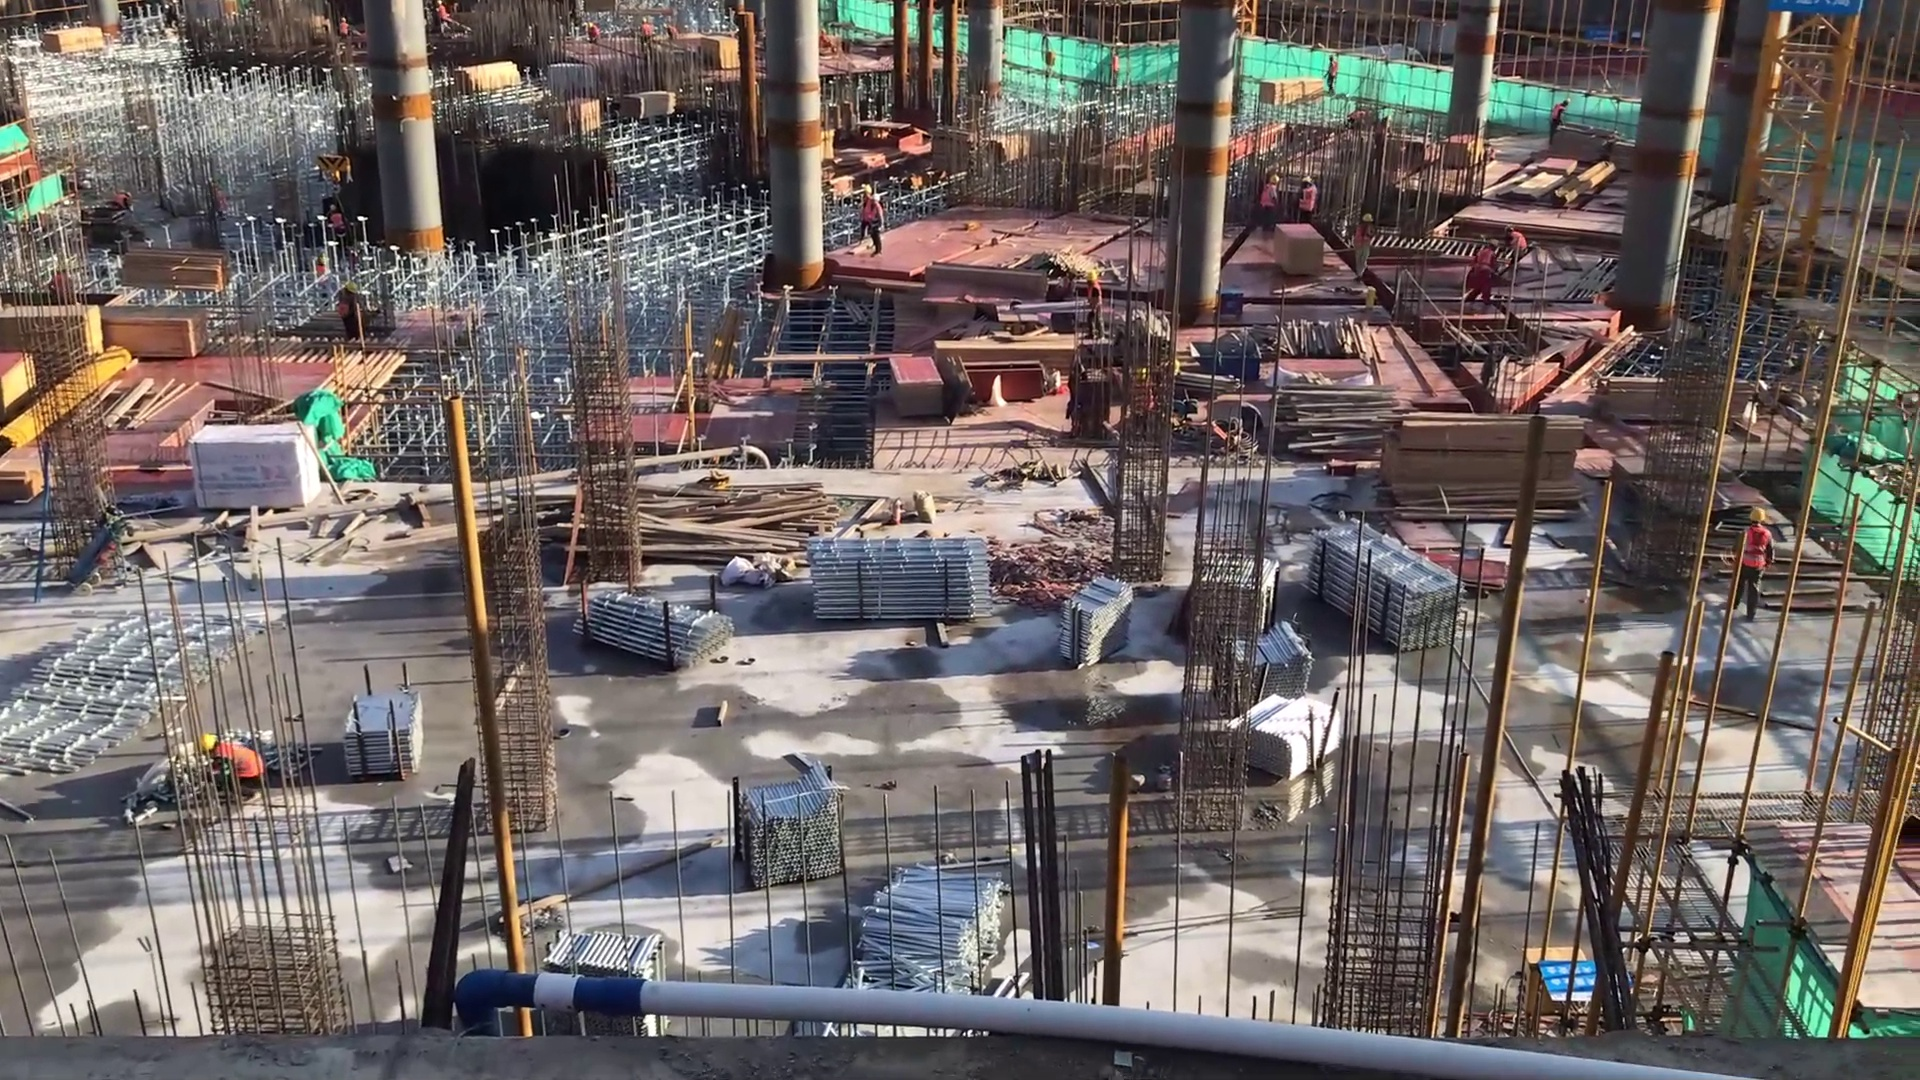board: (1408, 547, 1511, 599), (888, 353, 949, 426), (697, 33, 749, 77)
helmet: (199, 730, 222, 757), (1744, 506, 1769, 529), (1082, 267, 1104, 288), (1357, 209, 1374, 225), (342, 281, 359, 297), (860, 182, 875, 199), (1486, 235, 1499, 252), (1267, 173, 1281, 189), (869, 192, 883, 206), (1300, 175, 1313, 188), (1564, 94, 1572, 107), (328, 204, 339, 213)
hook: (1191, 337, 1268, 382)
person: (194, 723, 269, 808), (1729, 501, 1779, 626), (1349, 207, 1384, 287), (1466, 235, 1501, 313), (1255, 166, 1286, 238), (1294, 172, 1329, 230), (337, 279, 368, 347), (1084, 263, 1108, 341), (1544, 92, 1575, 153), (867, 192, 890, 263), (1502, 222, 1532, 276), (858, 179, 880, 252), (1317, 51, 1345, 105), (327, 198, 352, 248), (108, 186, 140, 222), (433, 1, 454, 38), (638, 17, 653, 58), (662, 20, 680, 49), (336, 14, 354, 42), (588, 20, 600, 48)
scaffold: (838, 862, 1009, 1020), (1305, 516, 1479, 653), (800, 527, 994, 630), (576, 584, 754, 667), (743, 763, 838, 901), (537, 913, 670, 981), (1227, 621, 1316, 707), (1059, 580, 1127, 677)
slogan: (1529, 945, 1644, 1019)
vest: (214, 738, 266, 783), (1742, 526, 1773, 576), (1471, 251, 1498, 284), (1508, 231, 1531, 261), (1353, 223, 1376, 251), (1087, 282, 1106, 311), (868, 201, 886, 231), (1259, 186, 1281, 209), (1300, 188, 1318, 212)
wood: (1380, 411, 1598, 517), (643, 475, 834, 570), (1593, 372, 1760, 431), (1277, 379, 1400, 458), (935, 334, 1092, 380), (95, 302, 202, 356), (117, 244, 226, 293), (1255, 72, 1327, 116), (451, 58, 524, 96), (620, 86, 680, 127)
